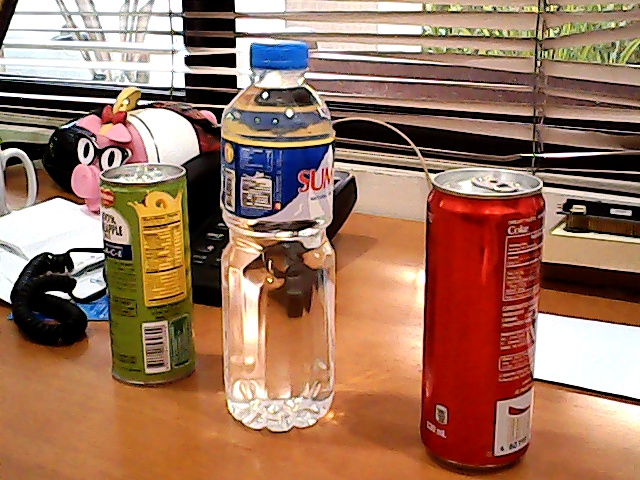Cola: (400, 145, 561, 480)
Pine Juice: (84, 149, 209, 393)
Summit Water: (203, 28, 353, 447)
